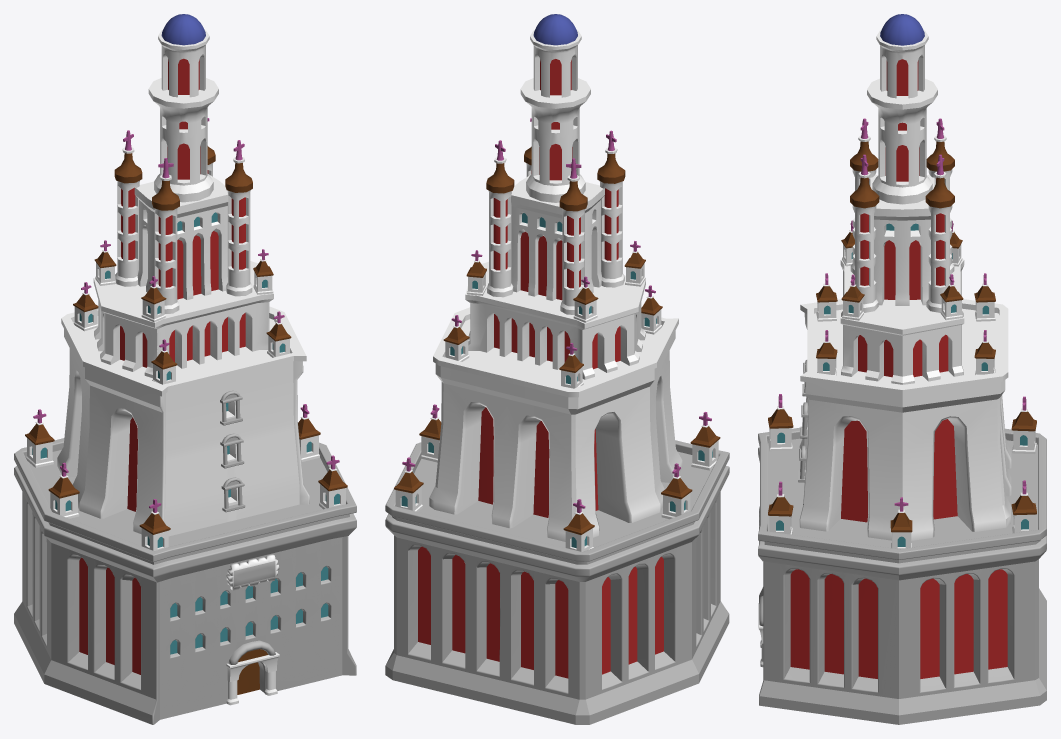
The model's file is LightHouse.fbx.
3 renders of one model, left to right at view 1: azimuth 30°, elevation 25°; view 2: azimuth 150°, elevation 25°; view 3: azimuth 270°, elevation 25°, orthographic.
Visible parts, largest first — view 1: BottomBaseHP, MidPart1, TopBase, SmallTowerMP, BottemTower, MidTowerMP, TopTower, pCube84, LittleHouseMP.003, LittleHouseMP.004, LittleHouseMP.001, LittleHouseMP (+9 smaller); view 2: BottomBaseHP, MidPart1, TopBase, SmallTowerMP, BottemTower, MidTowerMP, TopTower, LittleHouseMP.001, LittleHouseMP.004, LittleHouseMP.003, LittleHouseMP.002, LittleHouseMP.005 (+6 smaller); view 3: BottomBaseHP, MidPart1, TopBase, SmallTowerMP, MidTowerMP, BottemTower, TopTower, LittleHouseMP.001, LittleHouseMP.003, LittleHouseMP, LittleHouseMP.002, LittleHouseMP.005 (+6 smaller).
Part boxes in pixels (x1,y1,x2,y2): BottomBaseHP: (14,438,356,724); MidPart1: (57,306,309,536); TopBase: (93,261,273,378); SmallTowerMP: (114,118,252,313); BottemTower: (134,174,228,299); MidTowerMP: (148,78,218,202); TopTower: (158,14,209,97); pCube84: (226,554,279,590); LittleHouseMP.003: (25,409,54,467); LittleHouseMP.004: (48,462,79,518); LittleHouseMP.001: (139,499,170,550); LittleHouseMP: (318,455,347,509); BottomBaseHP: (385,440,729,724); MidPart1: (429,307,682,541); TopBase: (465,261,645,379); SmallTowerMP: (486,118,625,314); BottemTower: (511,175,604,300); MidTowerMP: (520,78,590,202); TopTower: (530,14,581,97); LittleHouseMP.001: (690,412,720,470); LittleHouseMP.004: (661,463,692,519); LittleHouseMP.003: (563,499,594,551); LittleHouseMP.002: (394,457,423,511); LittleHouseMP.005: (419,404,441,462); BottomBaseHP: (758,427,1046,724); MidPart1: (799,299,1011,540); TopBase: (840,259,964,384); SmallTowerMP: (850,118,954,312); MidTowerMP: (867,78,937,204); BottemTower: (870,175,934,305); TopTower: (876,14,928,98); LittleHouseMP.001: (768,394,793,451); LittleHouseMP.003: (1011,396,1036,454); LittleHouseMP: (768,481,793,534); LittleHouseMP.002: (1011,480,1036,533); LittleHouseMP.005: (890,497,912,549).
Size of the model in its own units: 5619 by 12024 by 4920.
